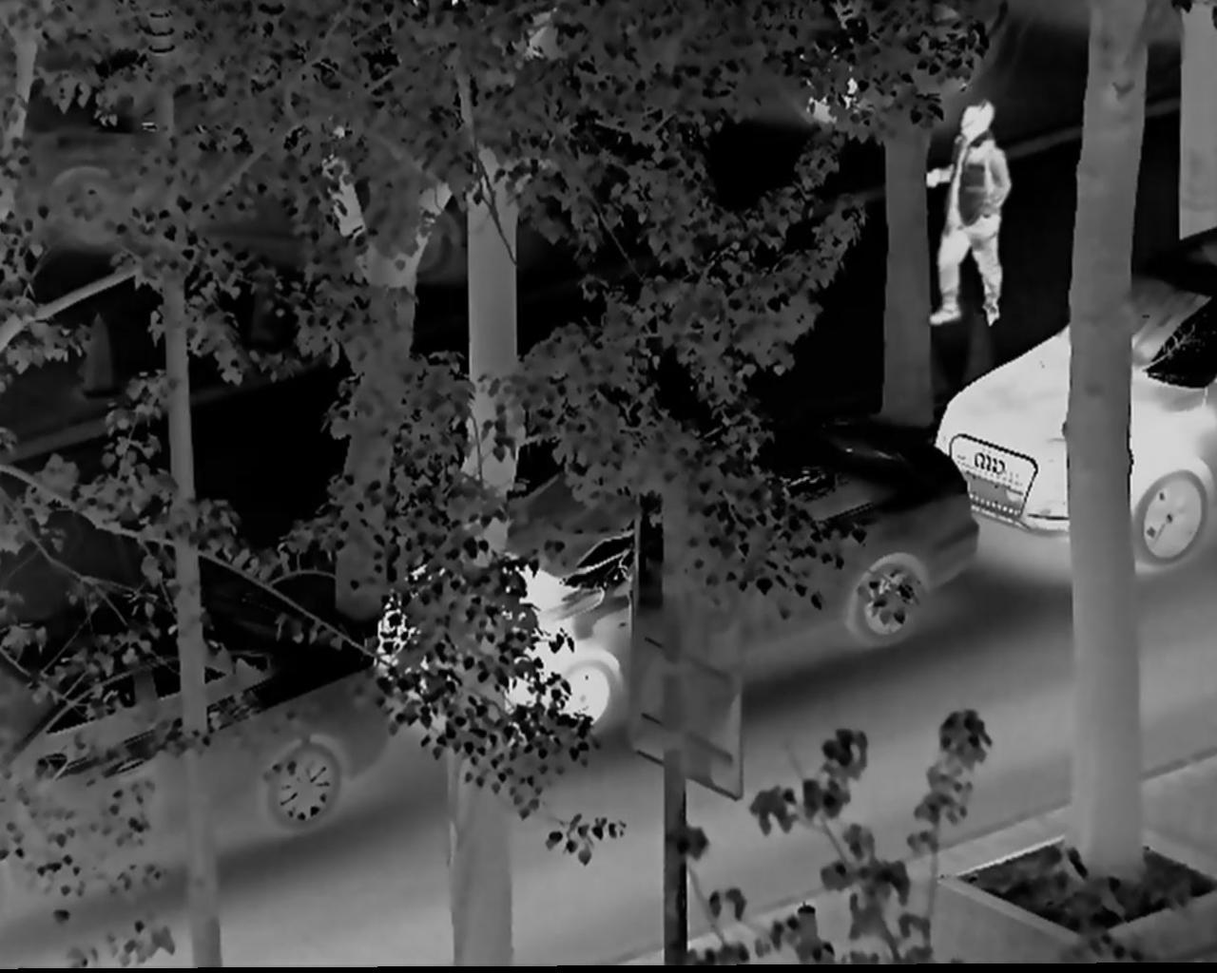person: (925, 90, 1014, 338)
